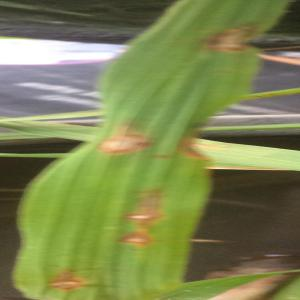Rice_Blast: (196, 15, 266, 69), (95, 109, 152, 166), (117, 177, 166, 227), (44, 259, 92, 300), (111, 228, 164, 262)
